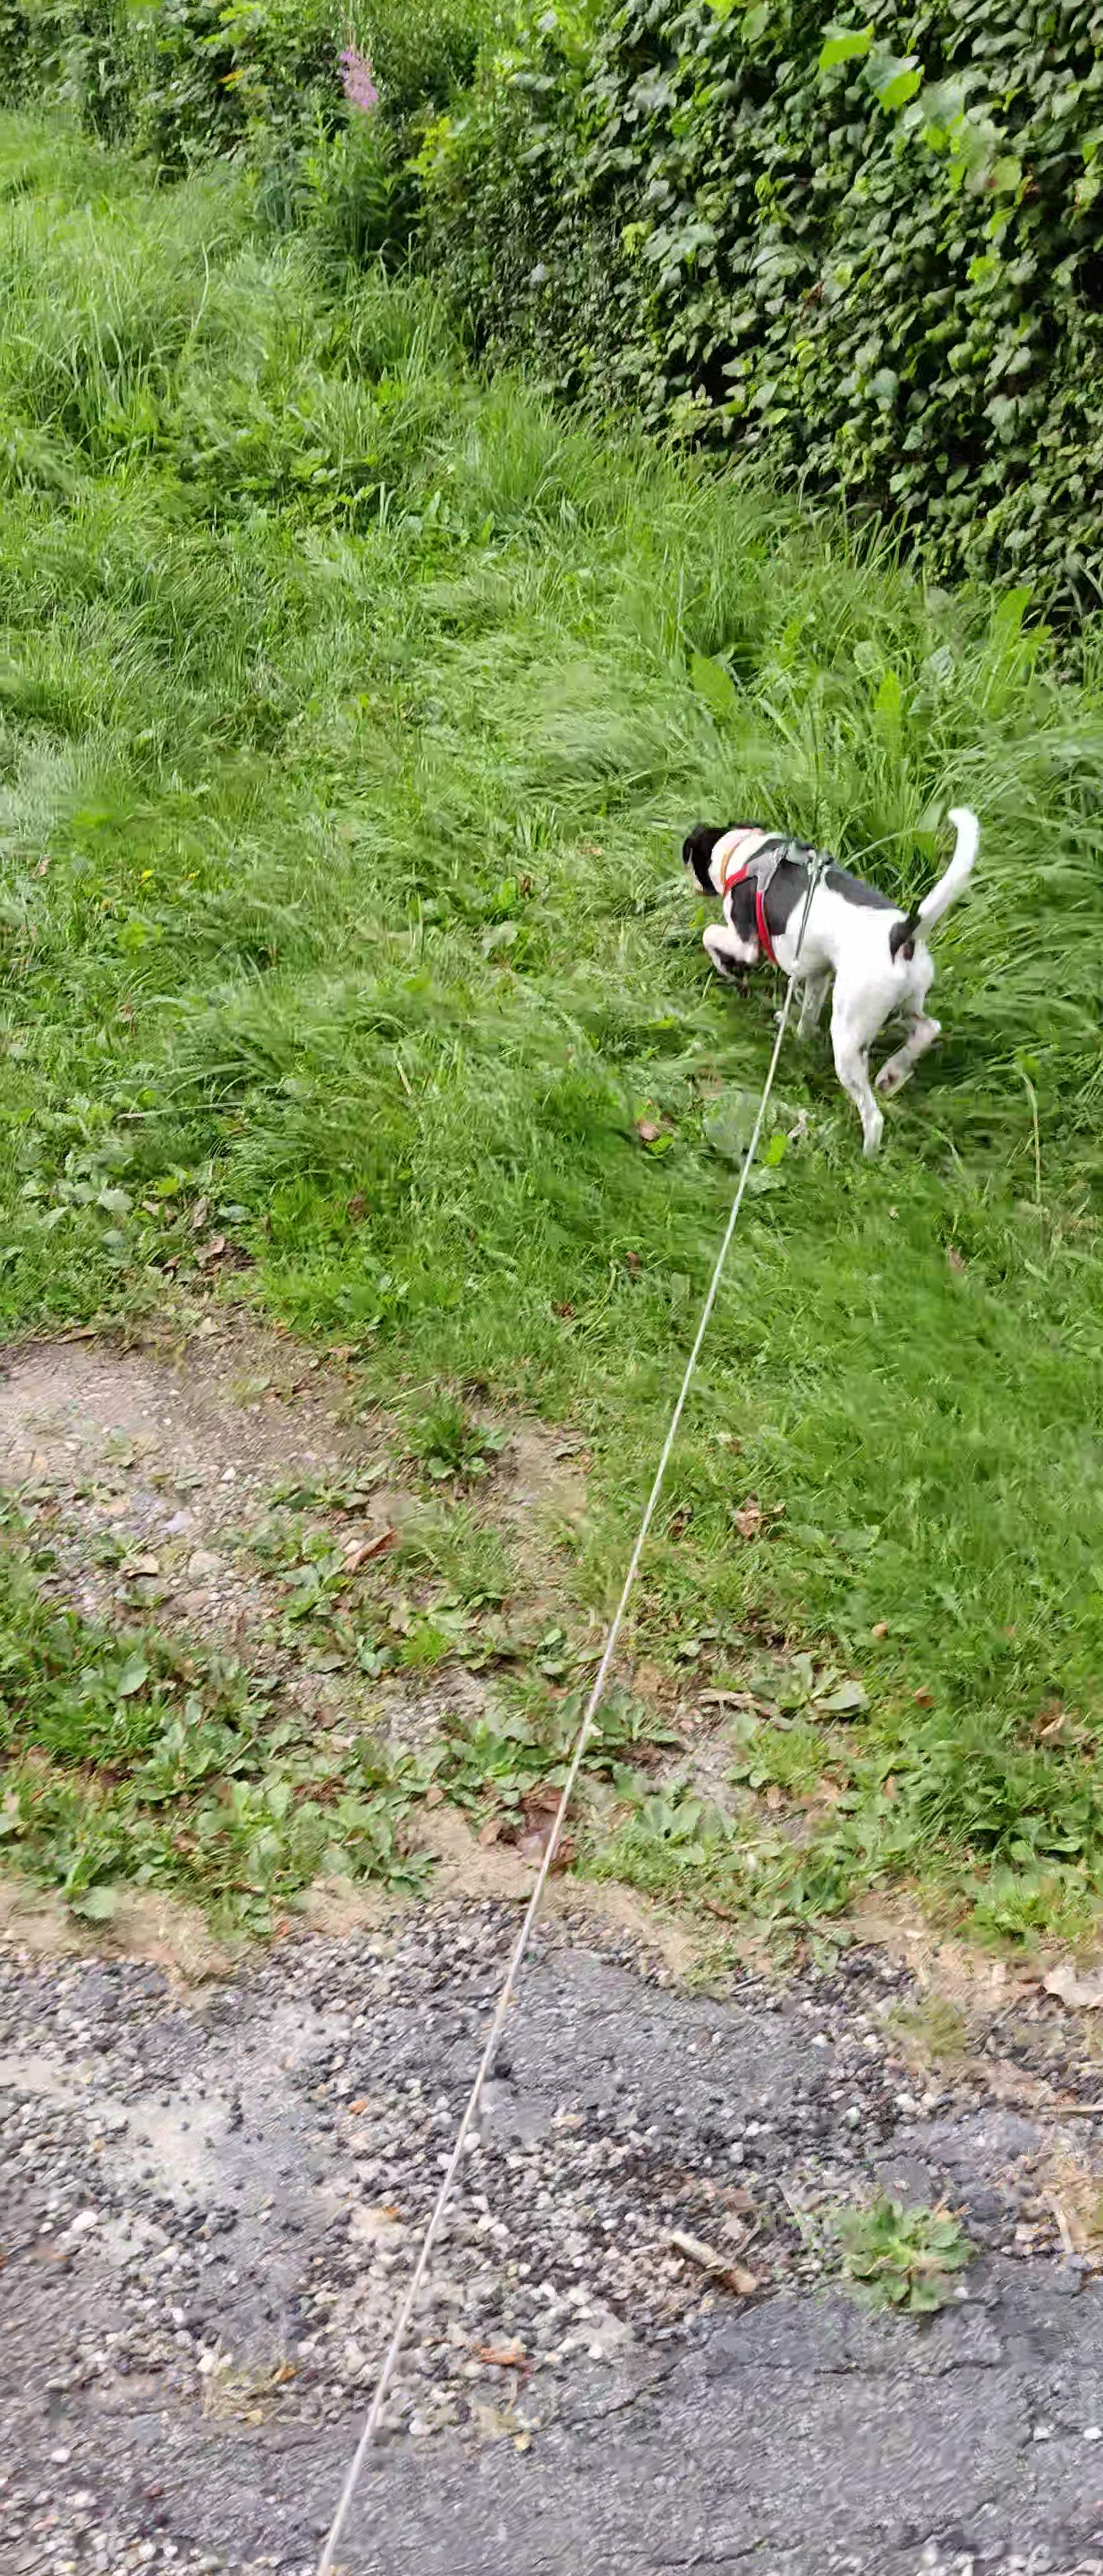Dog: (674, 800, 981, 1160)
